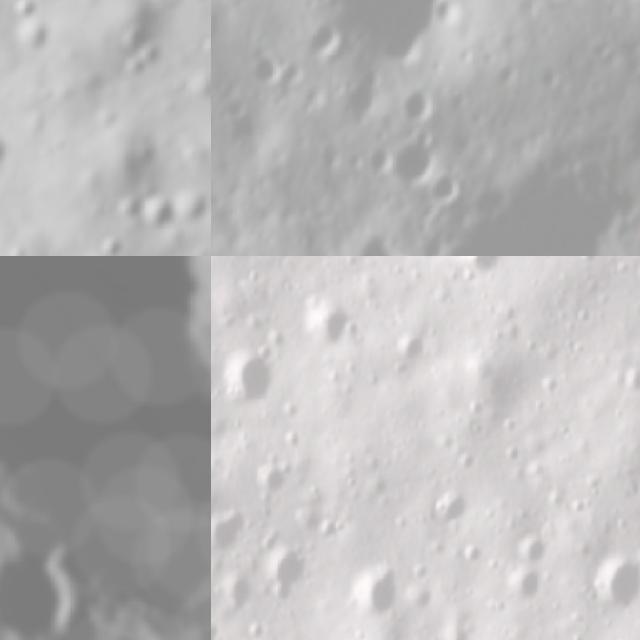crater: (0, 256, 211, 640), (444, 158, 621, 256), (0, 531, 95, 640), (316, 0, 457, 67), (0, 490, 82, 581), (38, 575, 131, 640), (106, 6, 174, 86), (217, 350, 272, 413), (260, 547, 312, 613), (583, 558, 640, 617), (348, 556, 398, 622), (382, 132, 437, 189), (336, 60, 382, 124), (296, 300, 351, 352), (6, 12, 60, 57), (342, 226, 416, 256), (384, 326, 426, 377), (136, 188, 182, 234), (239, 46, 284, 89), (426, 482, 463, 532), (298, 21, 339, 65), (214, 571, 252, 618), (422, 165, 460, 210), (248, 462, 288, 502), (394, 88, 436, 124), (211, 509, 240, 558), (511, 532, 554, 565), (626, 108, 640, 208), (504, 568, 546, 598), (490, 53, 521, 90), (532, 60, 567, 92), (310, 139, 340, 176), (213, 90, 244, 125), (91, 227, 128, 256), (447, 256, 505, 270), (615, 362, 640, 394), (6, 0, 39, 24), (340, 142, 362, 178), (455, 542, 478, 576), (0, 127, 14, 175), (628, 55, 640, 92)
